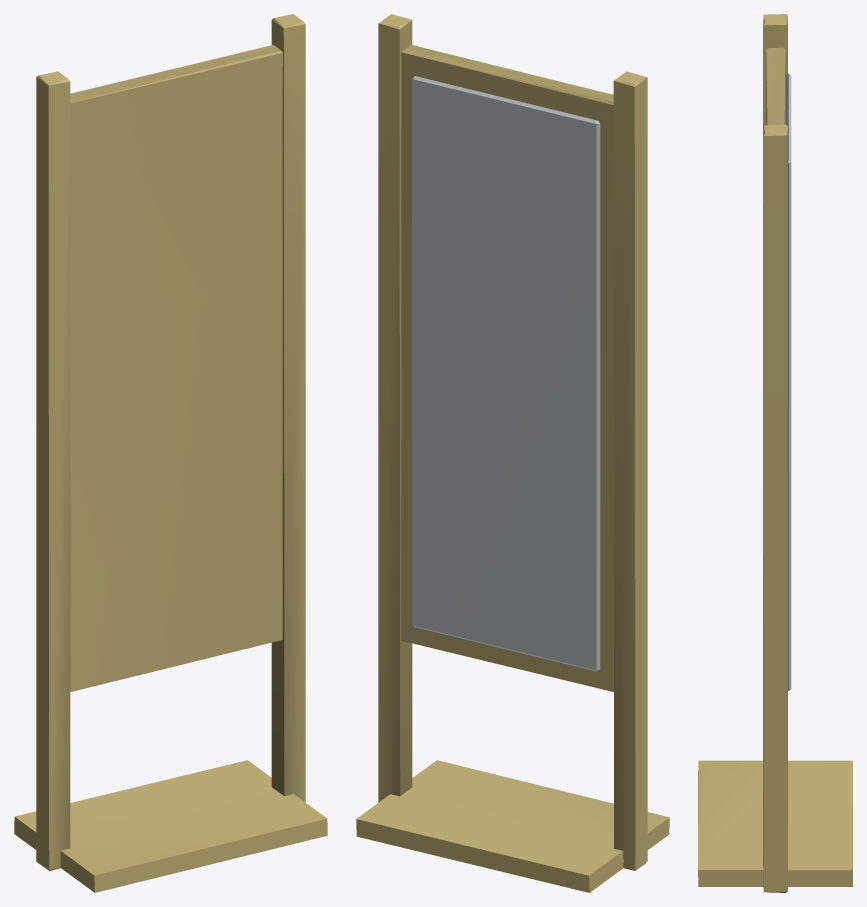
Rendered from furn_mirror_stand__gold_low.glb.
3 renders of one model, left to right at view 1: azimuth 30°, elevation 25°; view 2: azimuth 150°, elevation 25°; view 3: azimuth 270°, elevation 25°, orthographic. The views are drawn at different scales.
Size of the model in its own units: 0.5462 by 1.6 by 0.2958.
